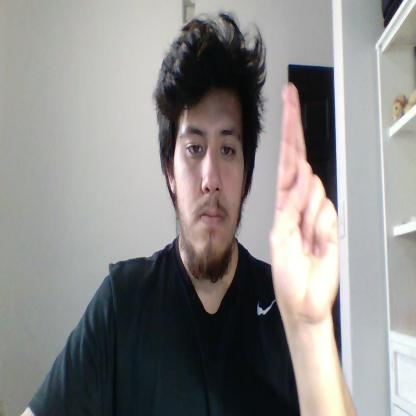R: (270, 84, 340, 321)
